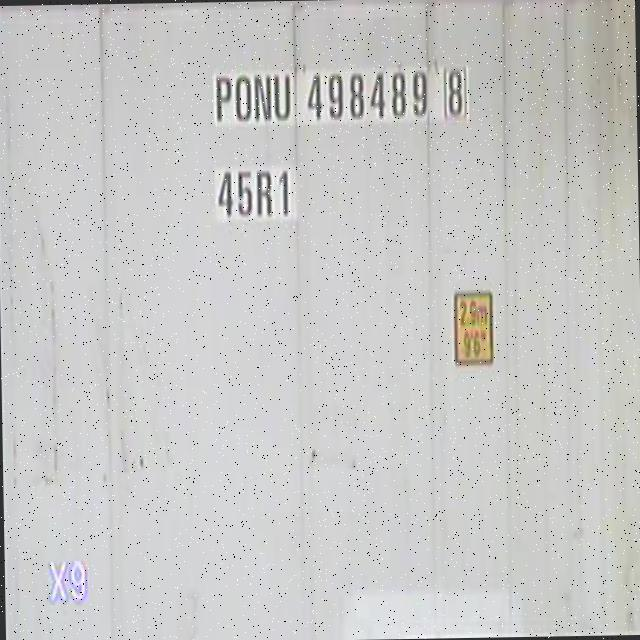le-tle-t-tletters: (213, 66, 472, 132)
